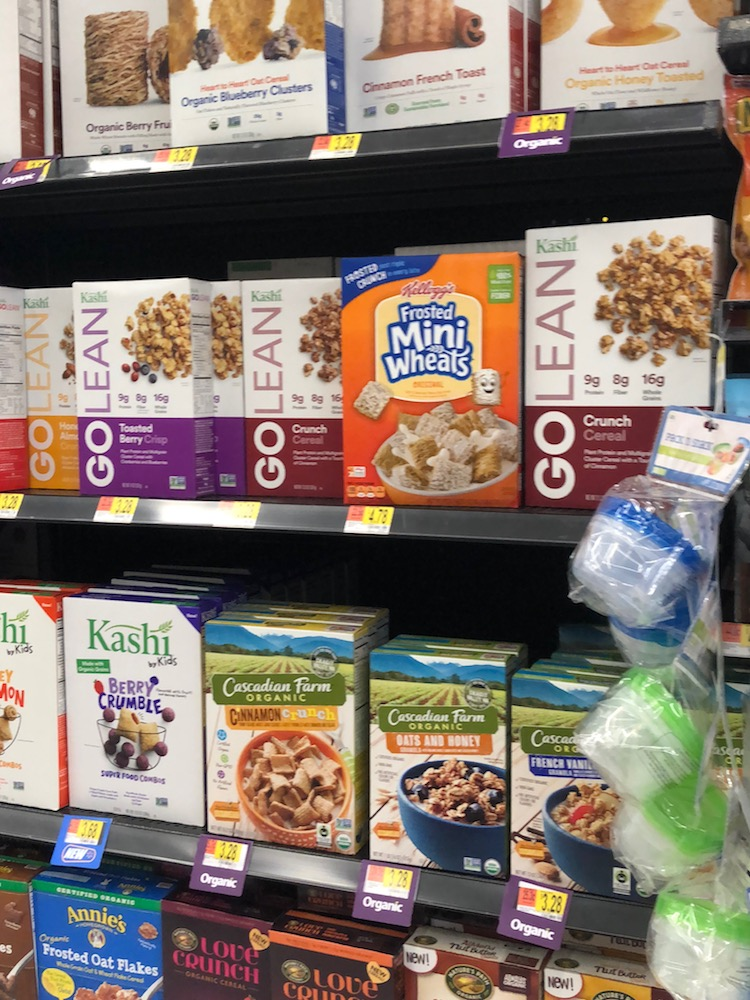Frosted Mini Original -9295869: (335, 262, 521, 505)
